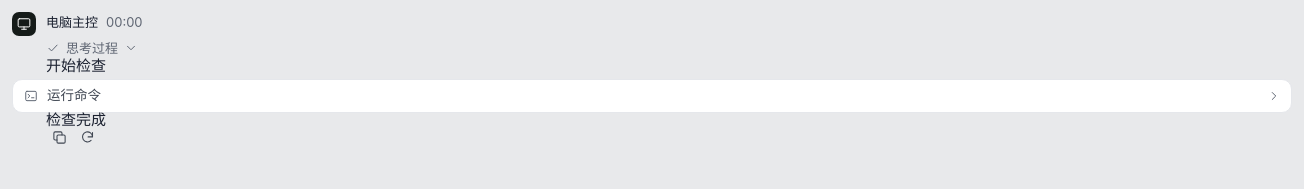
it: Lom puts identity before thinking and preserves interleaved reply order
The width and height of the screenshot is (1304, 189).
Expected: the number of elements with class "msg__name" is 1, x1=46 y1=12 x2=98 y2=31
Expected: the text "先检查情况" is not shown
Step 1. Click the button with class "lom-thinking__head" → (92, 48), box x1=46 y1=36 x2=138 y2=59
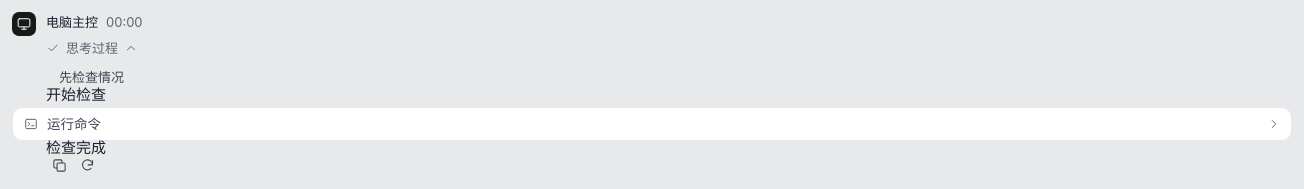
Now the text "先检查情况" is shown, box x1=59 y1=69 x2=124 y2=85
